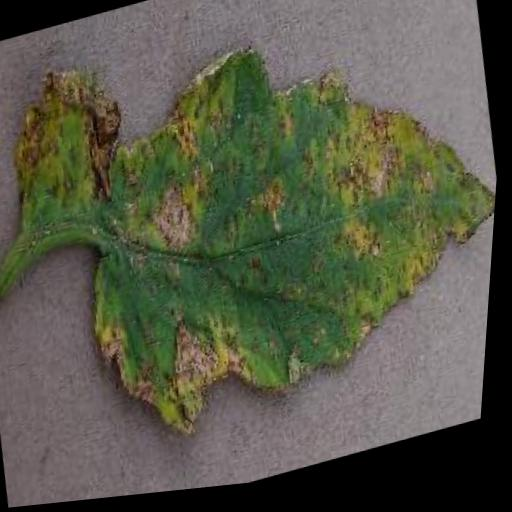Bacterial Spot: (0, 0, 512, 484)
